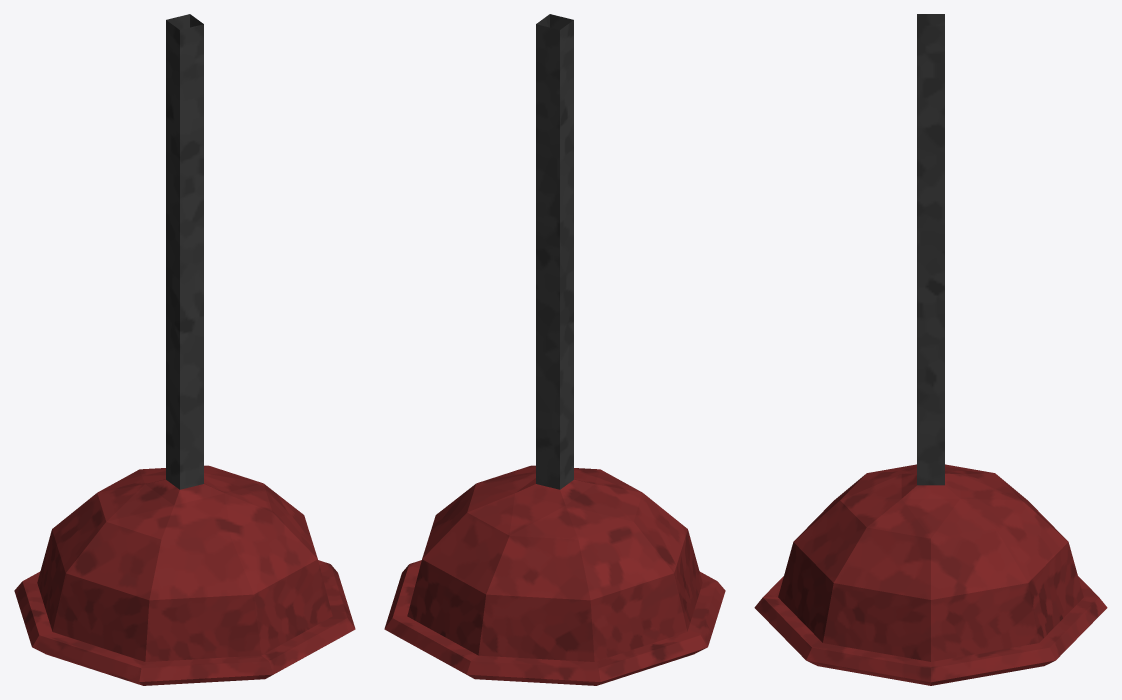
Rendered from chandelier.fbx.
The picture shows the model from 3 angles, left to right: view 1: azimuth 30°, elevation 25°; view 2: azimuth 150°, elevation 25°; view 3: azimuth 270°, elevation 25°; orthographic projection.
Parts seen in each view (by area): view 1: люстра; view 2: люстра; view 3: люстра.
Part boxes in pixels (x1,y1,x2,y2): люстра: [14, 14, 355, 685]; люстра: [384, 14, 725, 685]; люстра: [754, 14, 1107, 685].
Size of the model in its own units: 27.72 by 52.4 by 27.72.
